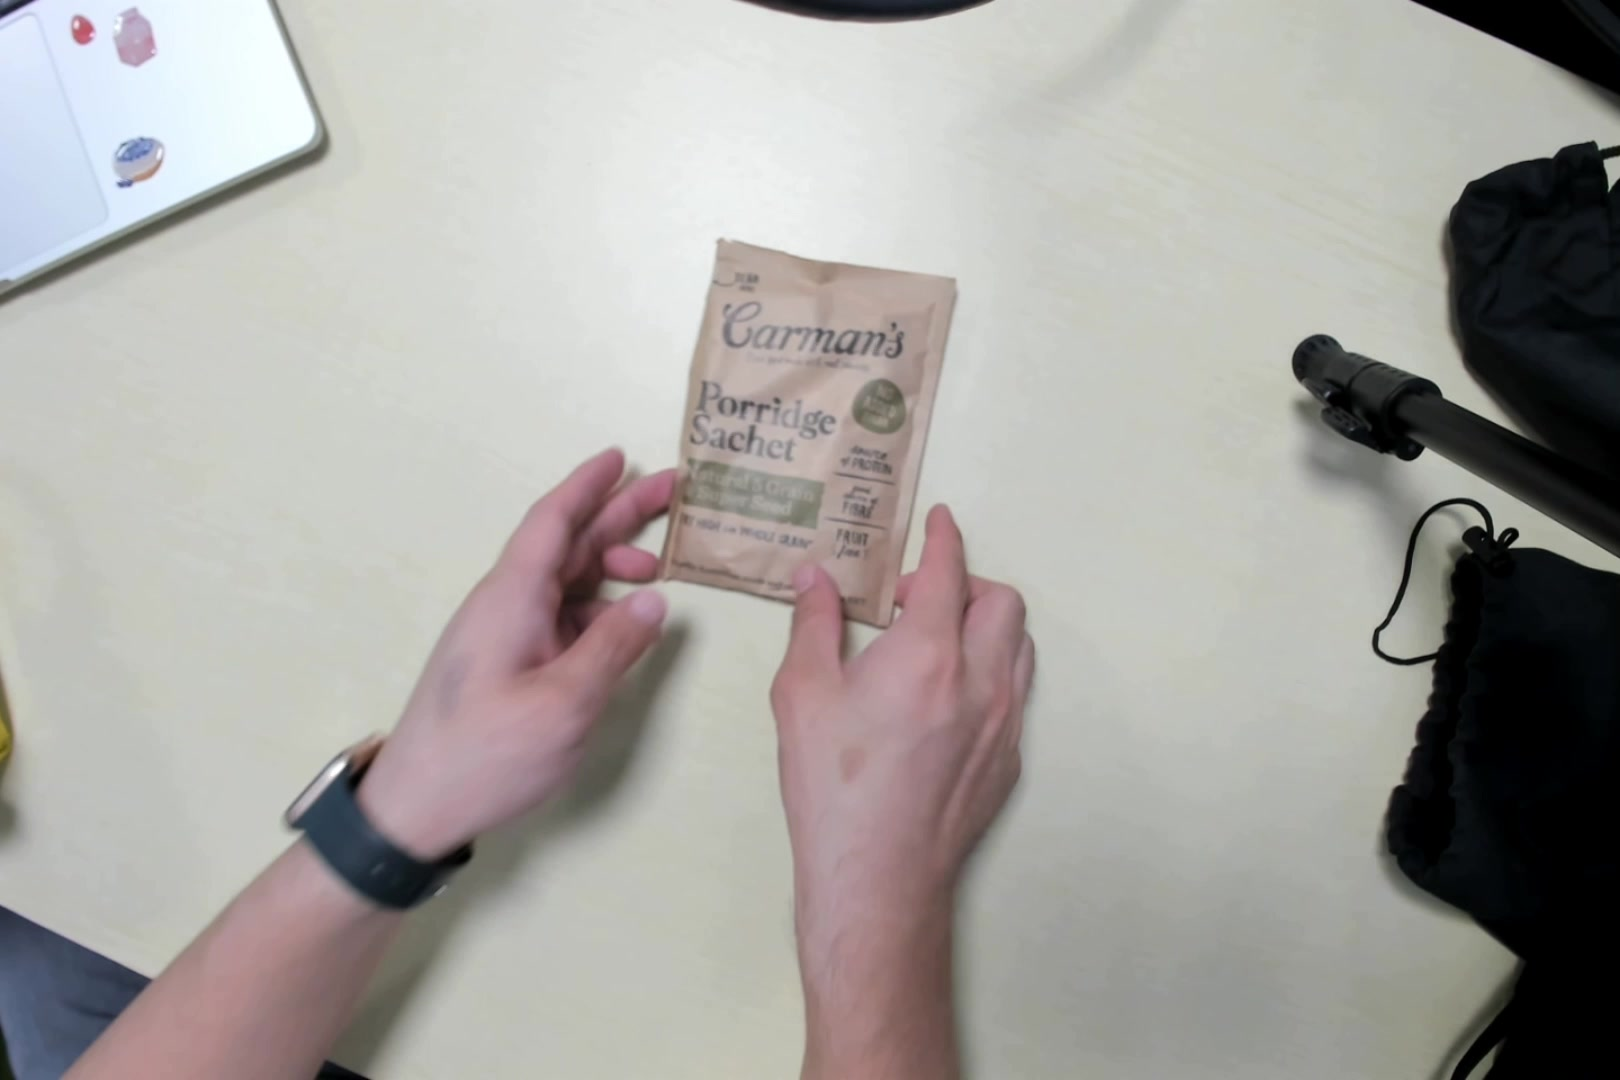InstantMeals_0-99g_NonHalal_NonHealthy: (655, 237, 923, 621)
